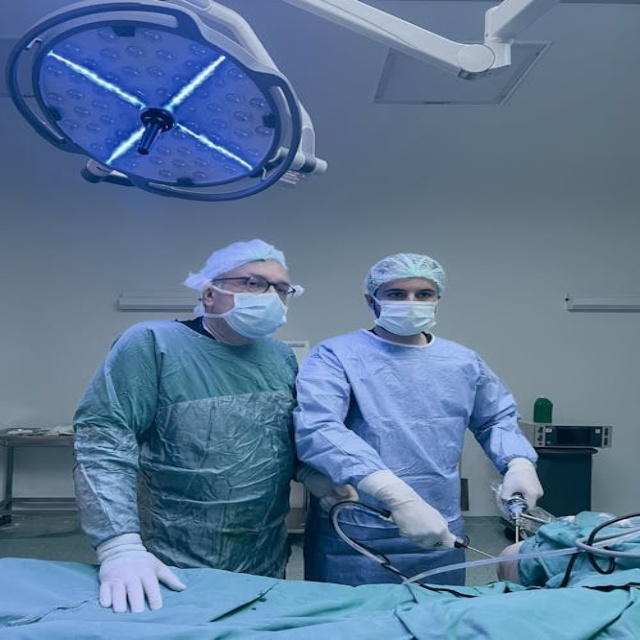Gafas: (211, 277, 296, 298)
Guantes: (358, 470, 458, 550), (90, 535, 184, 612), (294, 462, 362, 511), (500, 453, 548, 520)
Mascara: (202, 285, 288, 339), (370, 295, 439, 336)
Sin_gafas: (381, 284, 434, 302)
